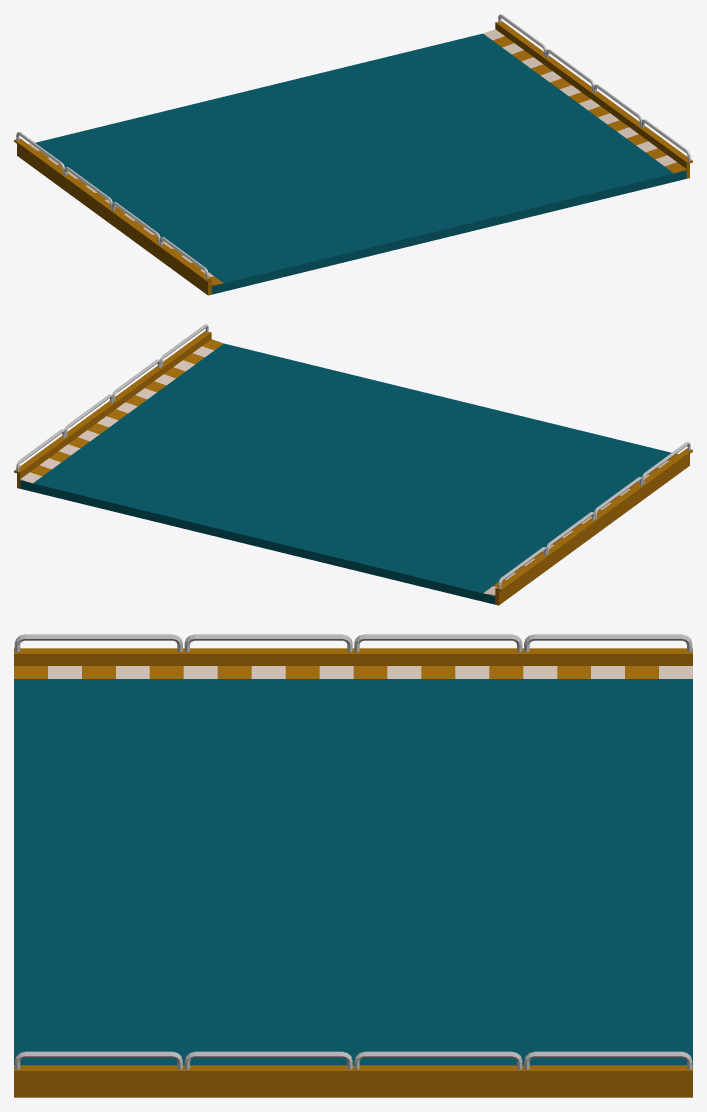
The model's file is straight_wide.FBX.
3 views of the same model, one above another, from view 1: azimuth 30°, elevation 25°; view 2: azimuth 150°, elevation 25°; view 3: azimuth 270°, elevation 25° (orthographic). The views are drawn at different scales.
Parts seen in each view (by area): view 1: straight_wide, wall_r, wall_l, curbs_l, curbs_r; view 2: straight_wide, wall_r, wall_l, curbs_l, curbs_r; view 3: straight_wide, wall_l, wall_r, curbs_r.
Boxes of the visible parts, box(x1,y1,x2,y2) form: straight_wide: box(35, 33, 686, 294); wall_r: box(14, 132, 211, 295); wall_l: box(495, 14, 692, 178); curbs_l: box(483, 29, 686, 173); curbs_r: box(28, 143, 223, 285); straight_wide: box(20, 343, 671, 604); wall_r: box(495, 442, 692, 605); wall_l: box(14, 324, 211, 488); curbs_l: box(20, 339, 223, 483); curbs_r: box(483, 453, 678, 595); straight_wide: box(14, 679, 692, 1065); wall_l: box(14, 1051, 692, 1097); wall_r: box(14, 634, 692, 665); curbs_r: box(14, 666, 692, 678).
Size of what is drawn, in the model's own units: 589 by 400 by 29.31.
